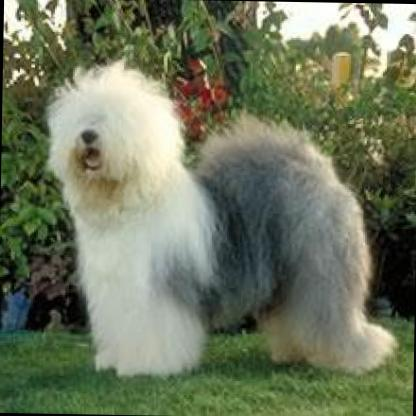Old_English_sheepdog: (37, 57, 400, 380)
